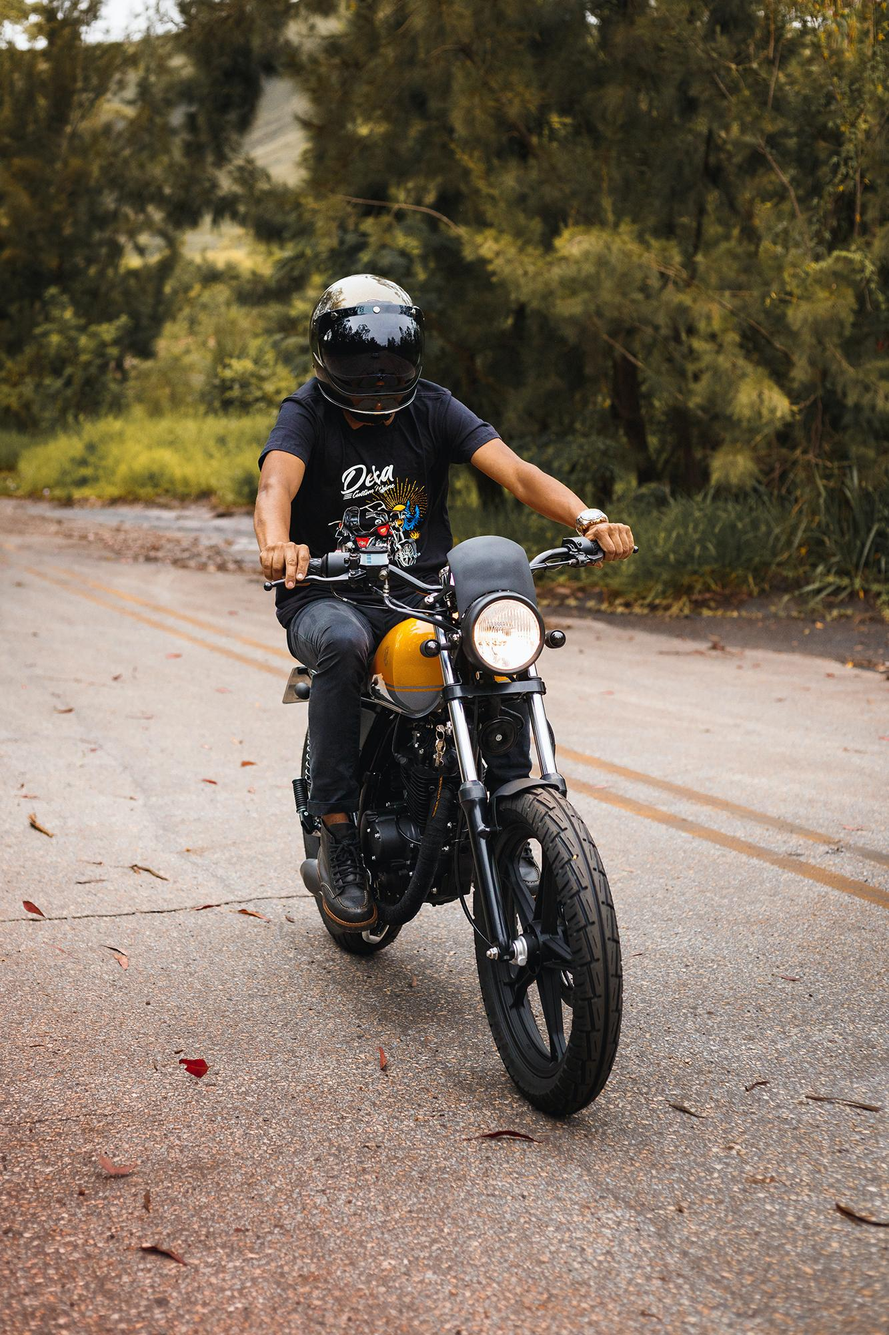helmet: (307, 272, 426, 425)
